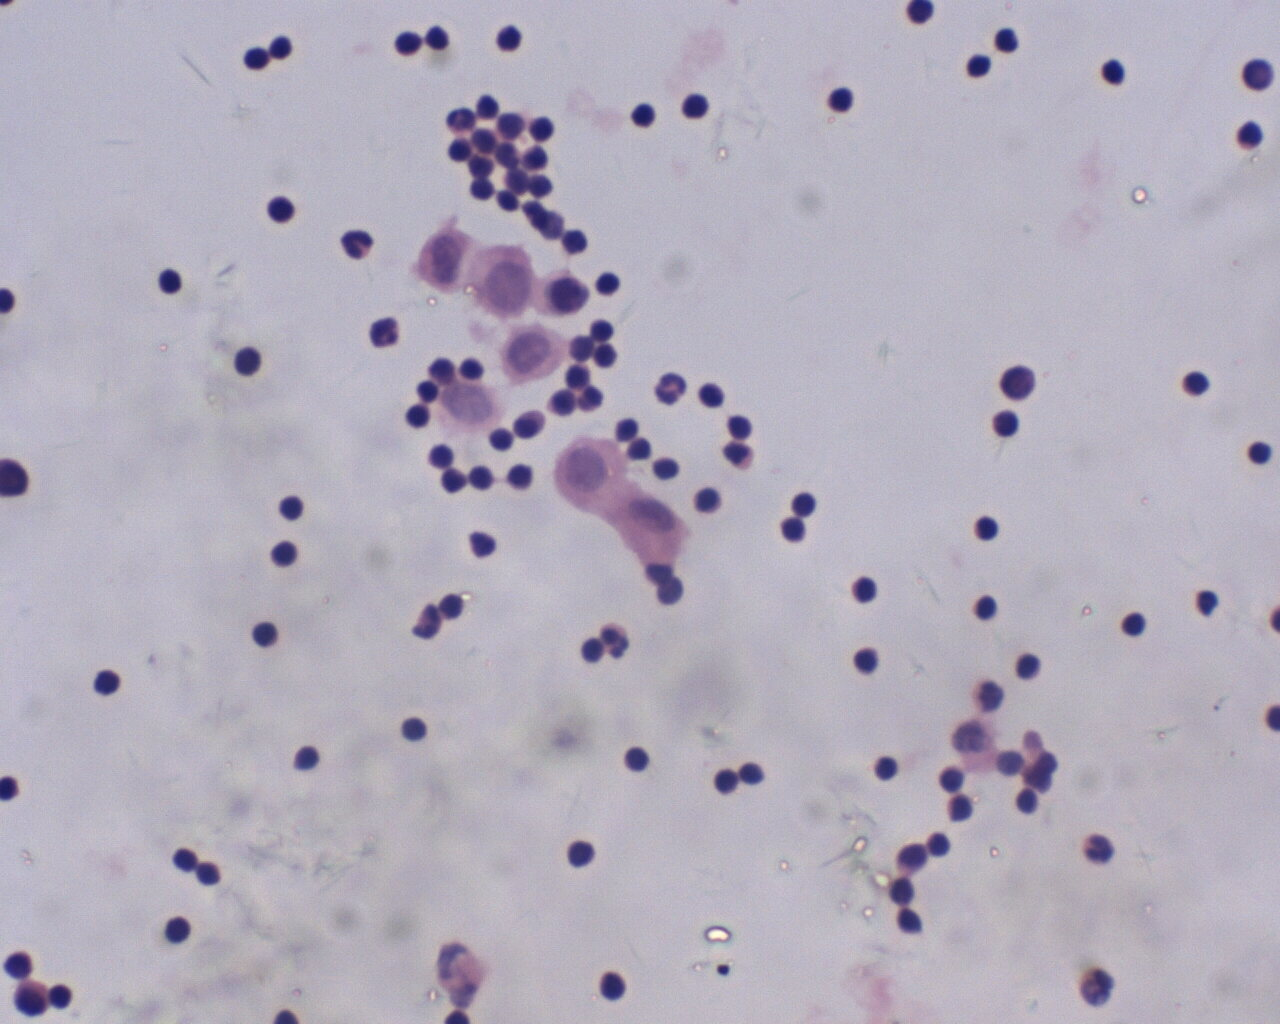ab: (408, 222, 478, 296), (471, 241, 538, 317), (499, 321, 566, 390), (539, 264, 590, 325)
lymph: (1113, 602, 1149, 649), (487, 22, 528, 59), (261, 191, 299, 230), (871, 752, 911, 787), (689, 484, 728, 517), (969, 591, 1004, 628), (159, 911, 194, 948), (564, 837, 599, 872), (89, 666, 125, 699), (598, 970, 633, 1003), (1244, 435, 1277, 471), (152, 263, 185, 298), (274, 493, 310, 523), (1182, 365, 1209, 404), (1096, 54, 1128, 87), (622, 745, 655, 776), (824, 83, 856, 116), (990, 408, 1023, 439), (267, 538, 299, 569), (290, 740, 322, 771), (625, 100, 657, 130), (234, 345, 263, 376), (250, 621, 282, 649), (850, 578, 881, 606), (400, 715, 432, 743), (681, 92, 711, 120), (974, 512, 1000, 541)
meso: (554, 433, 627, 510)
neutro: (649, 367, 697, 410), (1075, 827, 1121, 869), (347, 397, 385, 441), (367, 310, 404, 352), (340, 226, 379, 257), (598, 621, 628, 660)
